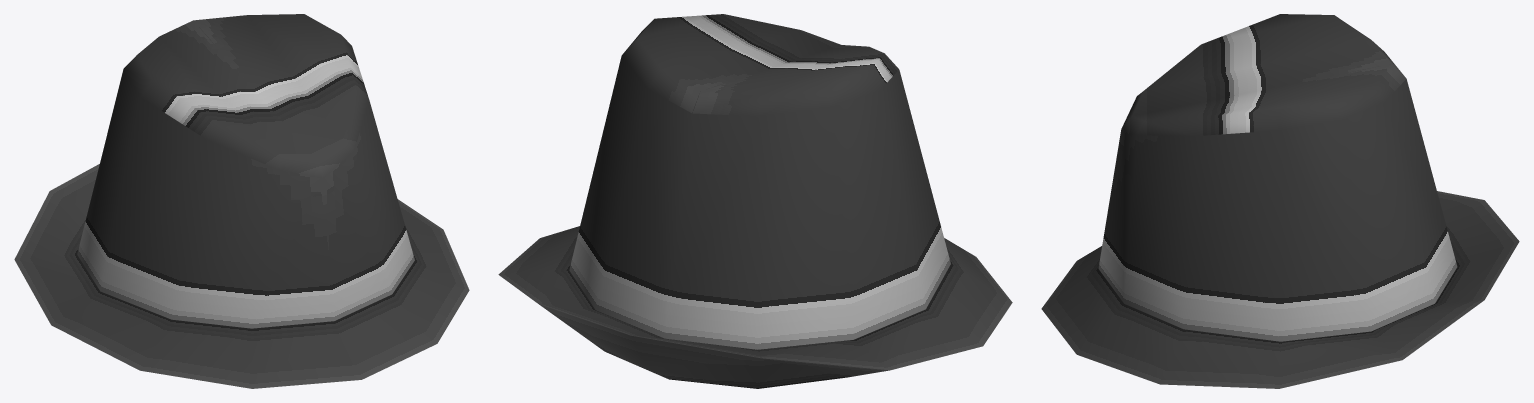
Rendered from int_oth_fedora_chairL.dae.
The picture shows the model from 3 angles, left to right: view 1: azimuth 30°, elevation 25°; view 2: azimuth 150°, elevation 25°; view 3: azimuth 270°, elevation 25°; orthographic projection. The views are drawn at different scales.
Visible parts, largest first — view 1: int_oth_fedora_chairL; view 2: int_oth_fedora_chairL; view 3: int_oth_fedora_chairL.
Part boxes in pixels (x1,y1,x2,y2): int_oth_fedora_chairL: (14, 14, 469, 388); int_oth_fedora_chairL: (498, 14, 1012, 388); int_oth_fedora_chairL: (1041, 14, 1519, 388).
Size of the model in its own units: 31.19 by 18.4 by 31.72.
Materials: 1 (1 with a texture image).
